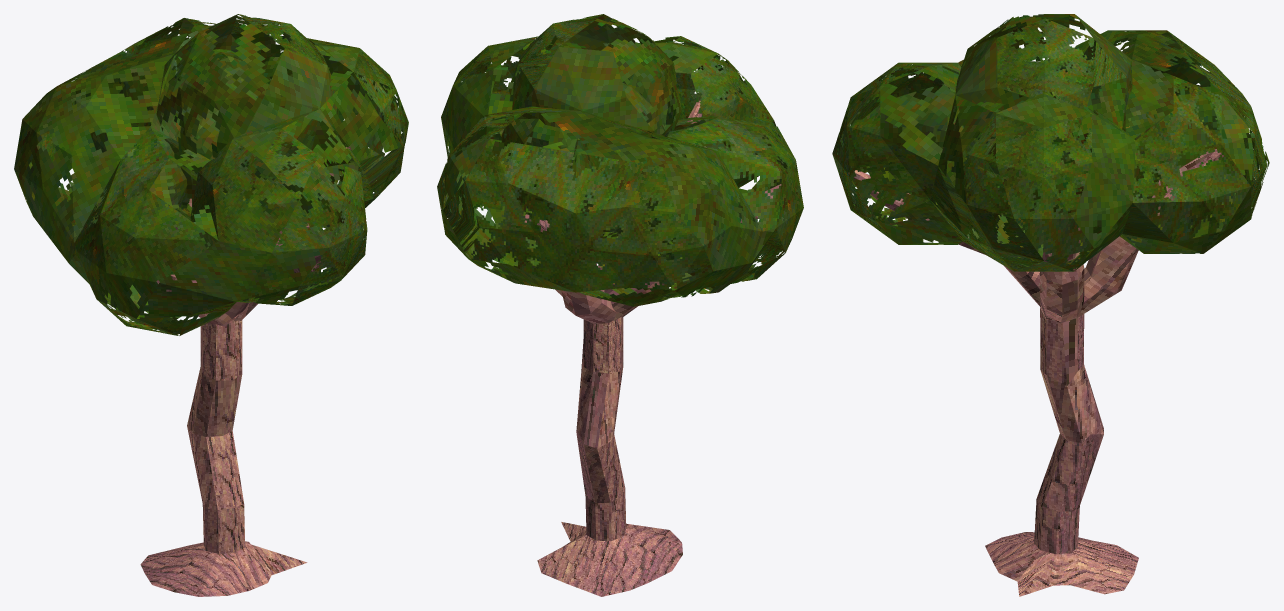
Rendered from treebetter.glb.
3 views of the same model, side by side, from view 1: azimuth 30°, elevation 25°; view 2: azimuth 150°, elevation 25°; view 3: azimuth 270°, elevation 25° (orthographic). The views are drawn at different scales.
Parts seen in each view (by area): view 1: Icosphere.004, Plane; view 2: Icosphere.004, Plane; view 3: Icosphere.004, Plane.
Part boxes in pixels (<box>): Icosphere.004: <box>14,14,408,335</box>; Plane: <box>140,115,356,596</box>; Icosphere.004: <box>437,14,803,306</box>; Plane: <box>524,100,781,596</box>; Icosphere.004: <box>832,14,1269,271</box>; Plane: <box>848,149,1223,596</box>.
Bounding box in the file's own units: 2.81 × 4.56 × 3.19.
Materials: 2 (2 with a texture image).
